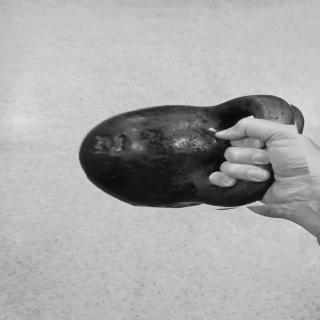kettlebell: (76, 97, 312, 217)
